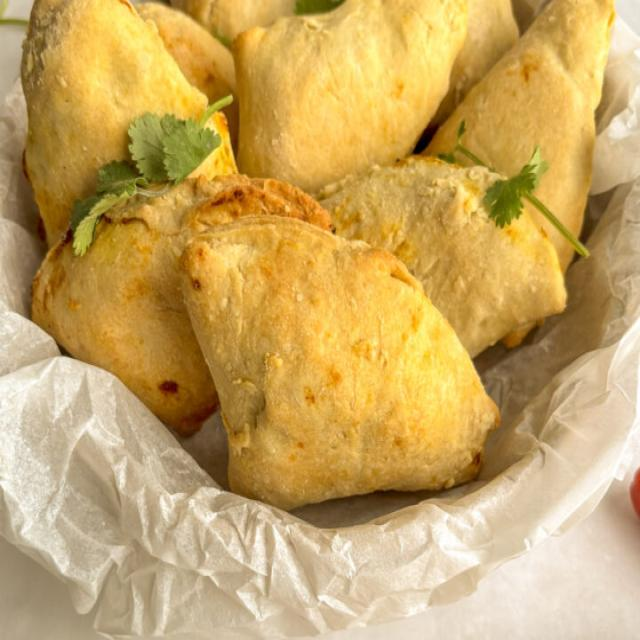SAMOSA: (183, 180, 500, 506), (31, 166, 329, 440), (422, 0, 615, 277), (313, 156, 569, 361), (231, 0, 471, 202), (23, 0, 209, 228)
